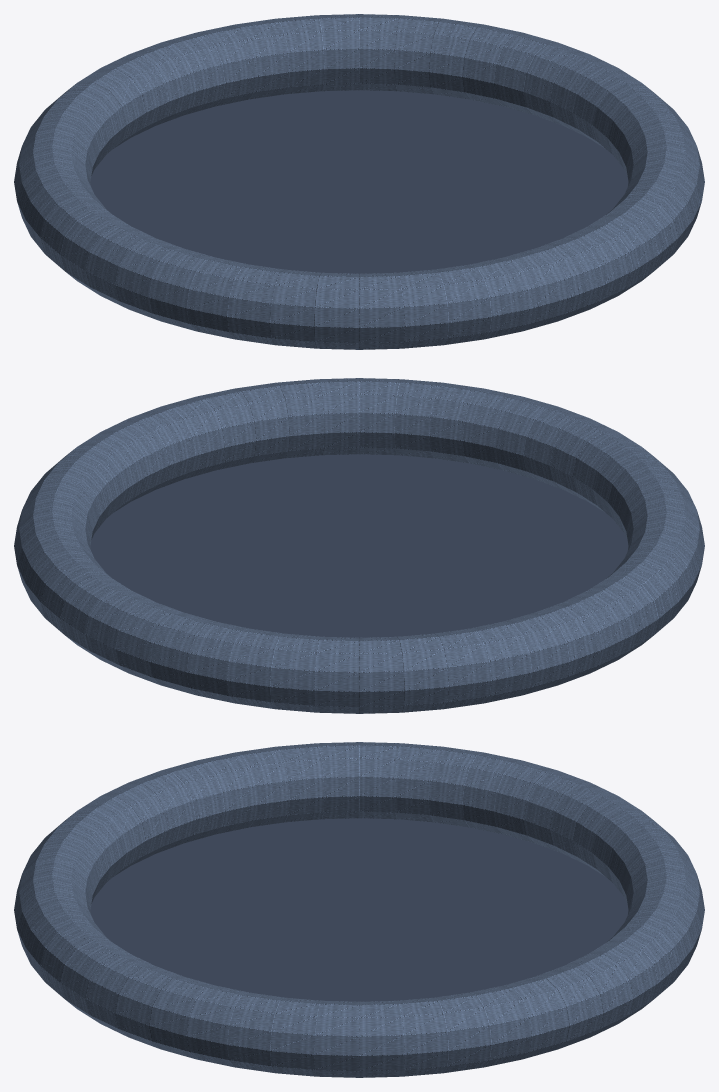
The model's file is basket.glb.
3 views of the same model, one above another, from view 1: azimuth 30°, elevation 25°; view 2: azimuth 150°, elevation 25°; view 3: azimuth 270°, elevation 25° (orthographic).
Visible parts, largest first — view 1: Torus; view 2: Torus; view 3: Torus.
Part boxes in pixels (bbox=[...]): Torus: bbox=[14, 14, 704, 349]; Torus: bbox=[14, 378, 704, 713]; Torus: bbox=[14, 742, 704, 1077].
Size of the model in its own units: 5.07 by 0.5607 by 5.07.
1 material, 1 textured.
